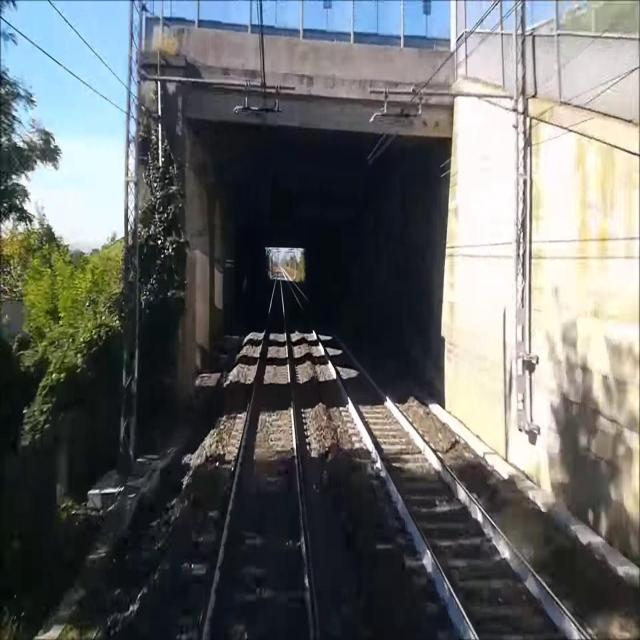rail-track: (284, 272, 584, 639), (206, 270, 313, 639)
